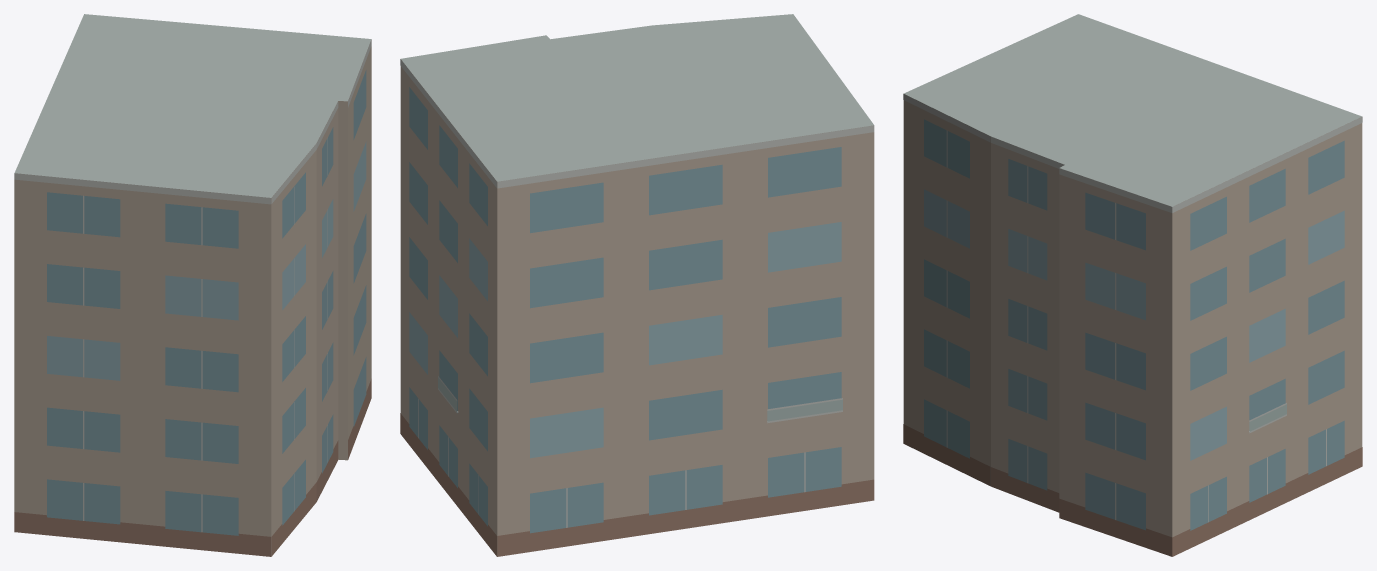
File: survey-upis-32583768.glb
The picture shows the model from 3 angles, left to right: view 1: azimuth 30°, elevation 25°; view 2: azimuth 150°, elevation 25°; view 3: azimuth 270°, elevation 25°; orthographic projection. The views are drawn at different scales.
Parts seen in each view (by area): view 1: survey-upis-32583768.tmp; view 2: survey-upis-32583768.tmp; view 3: survey-upis-32583768.tmp.
Part boxes in pixels (x1=…): survey-upis-32583768.tmp: x1=14, y1=14, x2=371, y2=556; survey-upis-32583768.tmp: x1=400, y1=14, x2=874, y2=556; survey-upis-32583768.tmp: x1=903, y1=14, x2=1362, y2=556.
Bounding box in the file's own units: 15.96 × 13.5 × 16.05.
